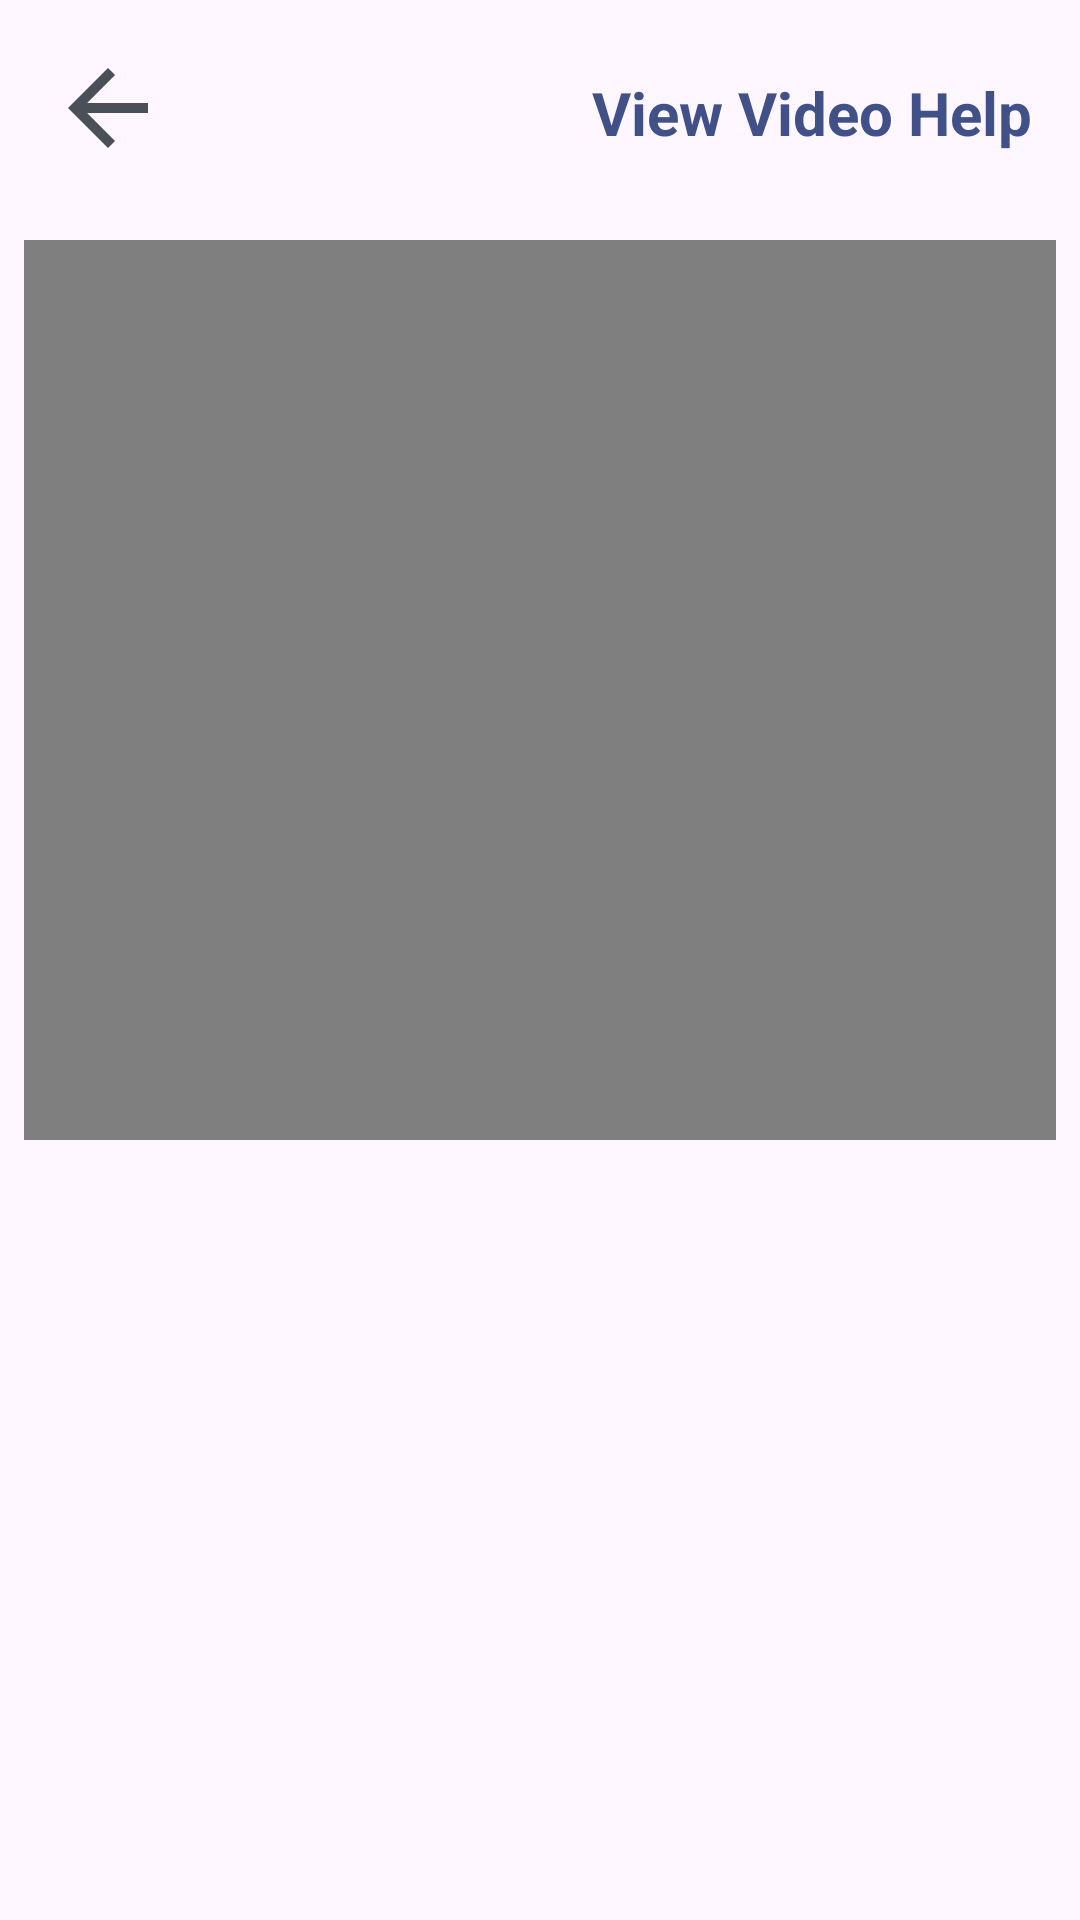

Icon click points for this 1080*1920 phone screenshot, format (x,y):
arrow back: (108,108)
